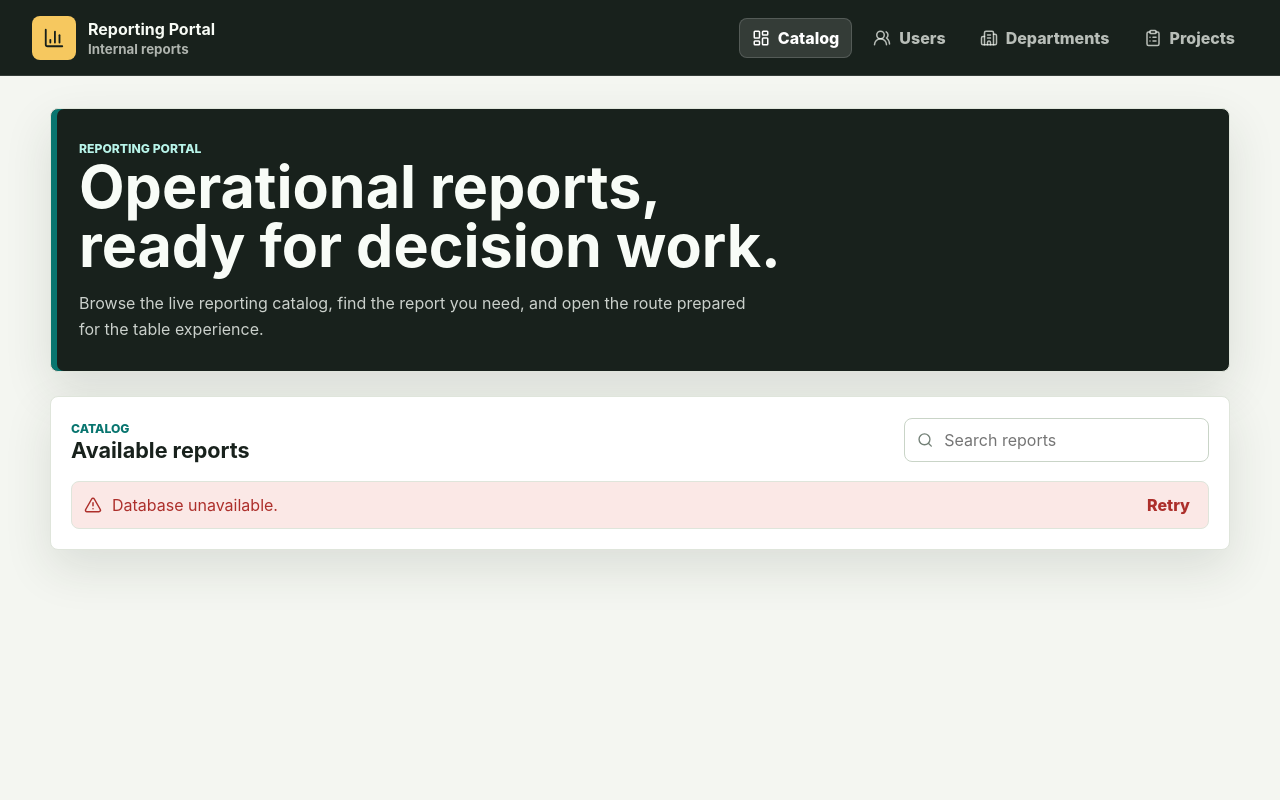
Test case: AppShell › retries the catalog request after a failure
Check: the text "Database unavailable." is shown, box [112,495,278,515]
Click the button "Retry". click: click(1168, 505)
box: [1141,494,1196,516]
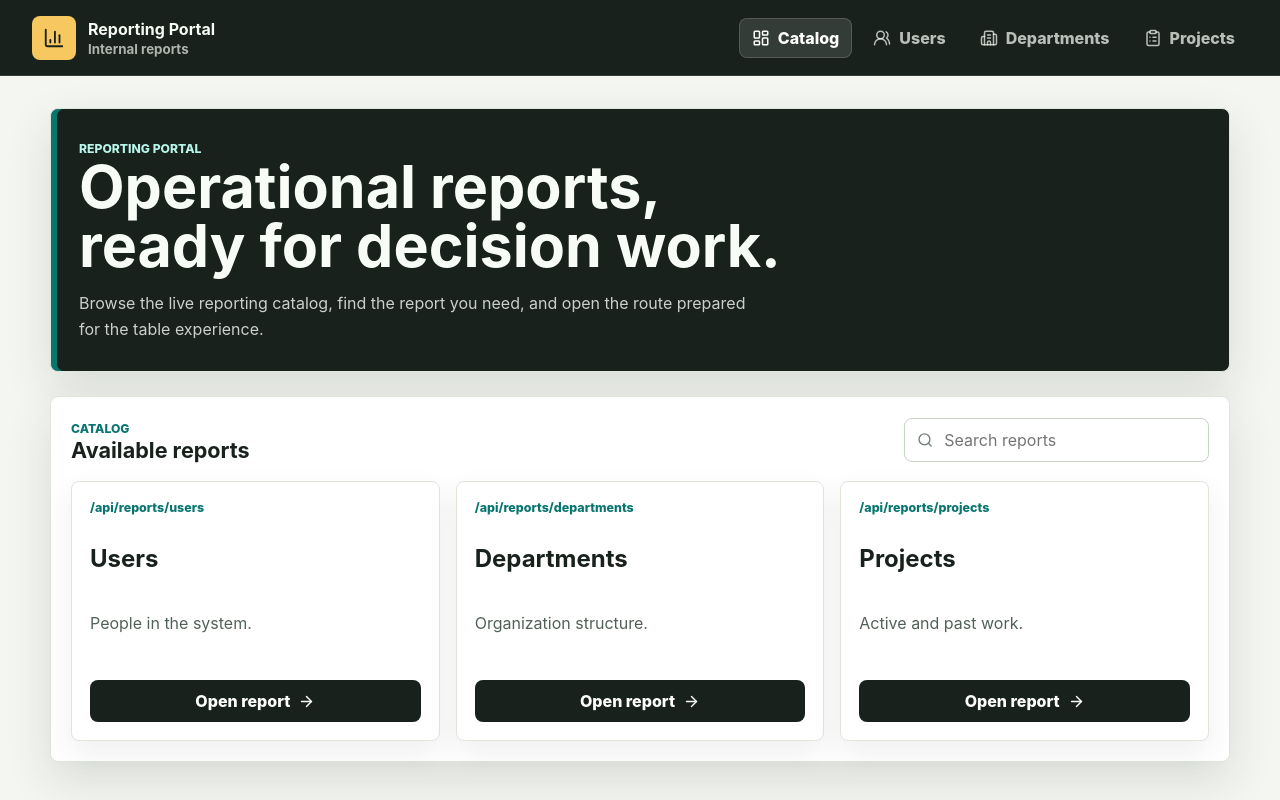
Check: the heading "Users" is shown, box [90,544,158,573]
